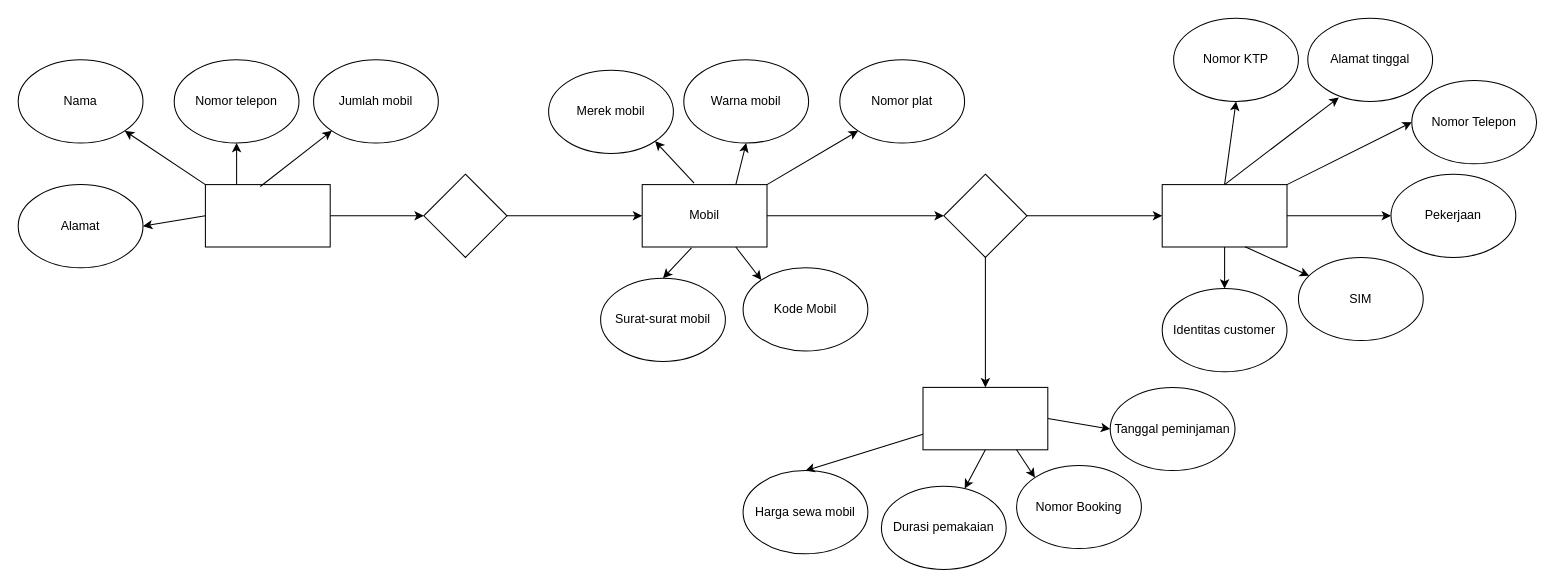
Some shapes in this 1555 by 588 pixel diagram are drawn without their labels. Here are the shapes that lost their labels. From the top down, the centre of each, then its label:
At (x=267, y=215): "Rental".
At (x=465, y=215): "Memiliki".
At (x=985, y=215): "Sewa".
At (x=1224, y=215): "Pelanggan".
At (x=985, y=418): "Transaksi".
